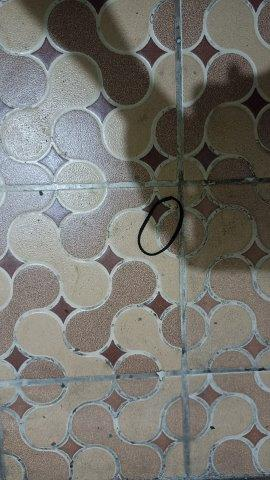karet: (138, 197, 183, 256)
